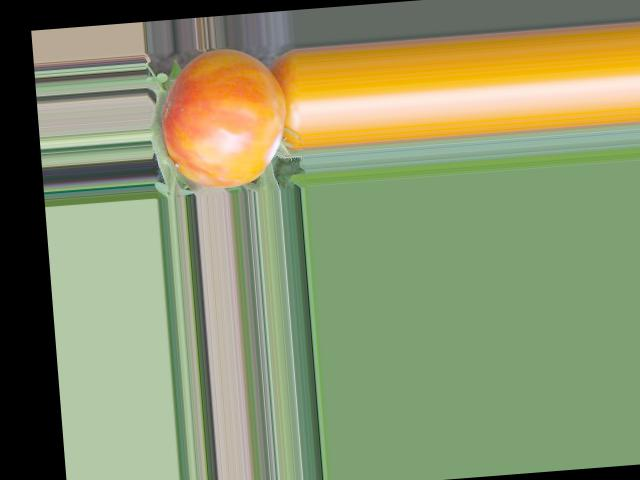tomato: (157, 44, 290, 192)
